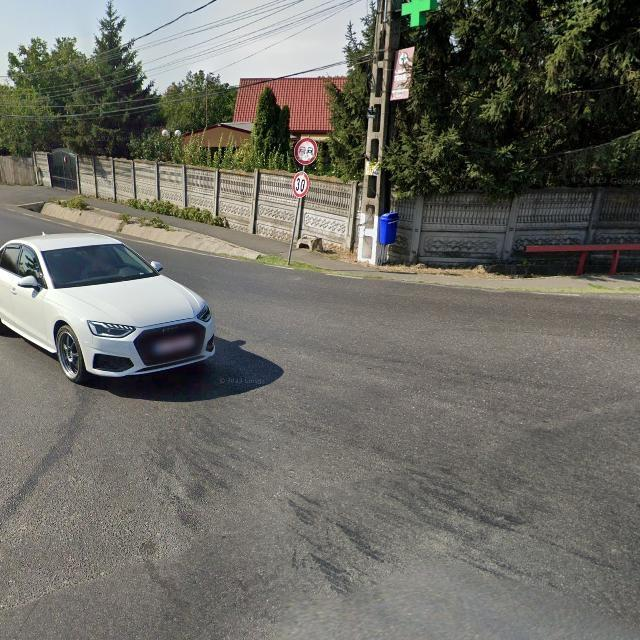forb_overtake: (294, 136, 318, 165)
forb_speed_over_30: (293, 171, 310, 198)
